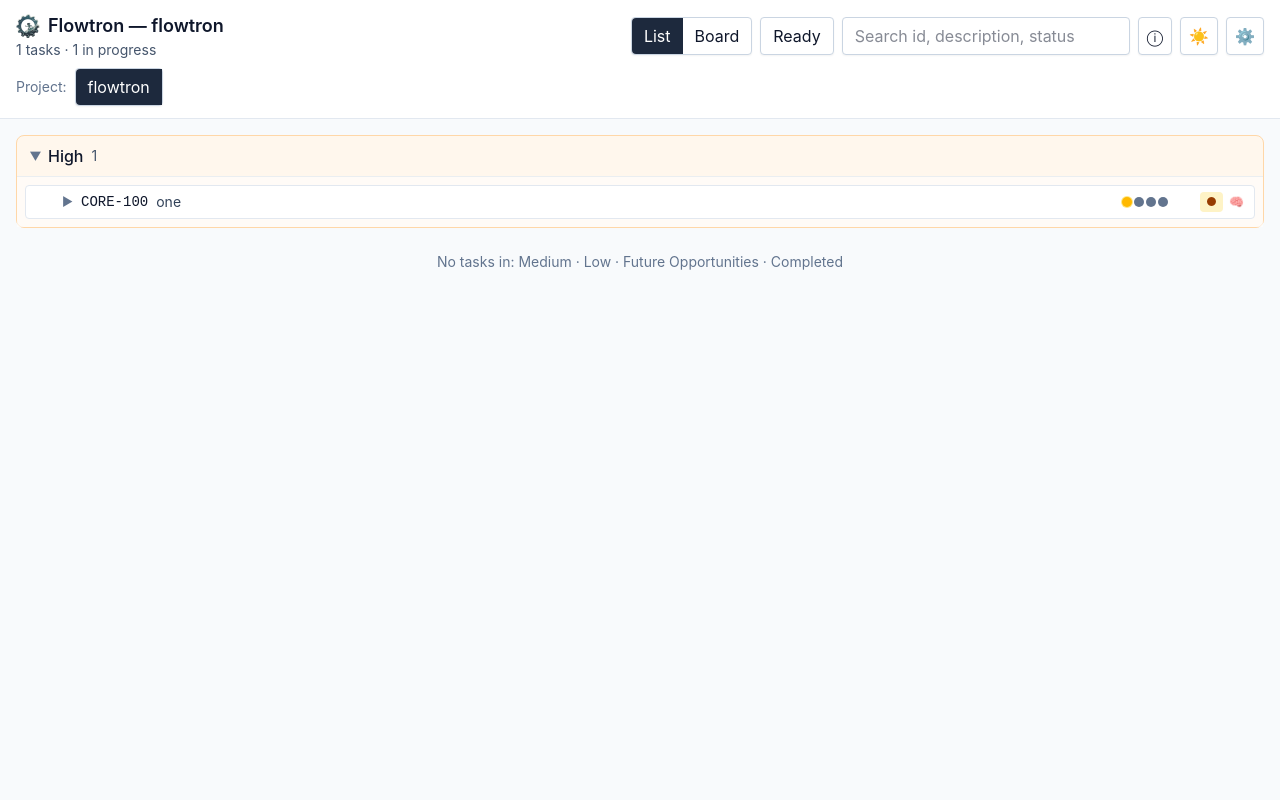
it: App — density modes › renders three Density radios in the settings modal
This screenshot has width=1280, height=800.
Check: the text "CORE-100" is shown, box [81,192,148,212]
Click the button named "Open settings" at (1245,36), box [1226,17,1264,55]
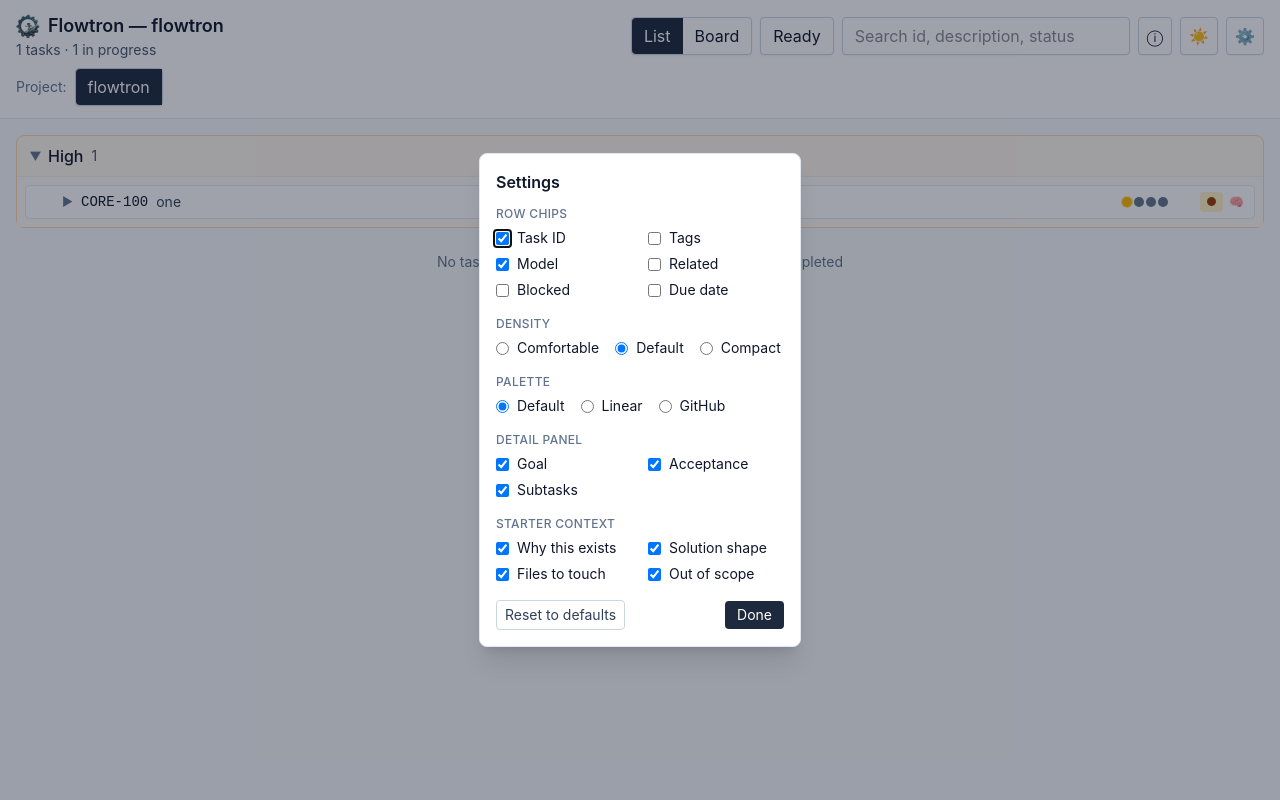
Check: the radio button labelled "Comfortable" is not checked, box [496,342,509,354]
Check: the radio button labelled "Default" next to "Comfortable" is checked, box [615,342,628,354]
Check: the radio button labelled "Compact" is not checked, box [700,342,713,354]
